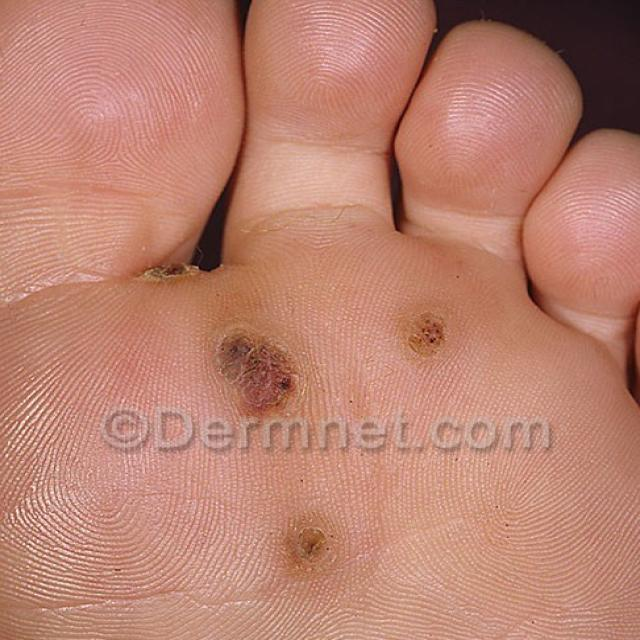Warts: (208, 319, 301, 446), (267, 496, 357, 584), (386, 299, 459, 379)
